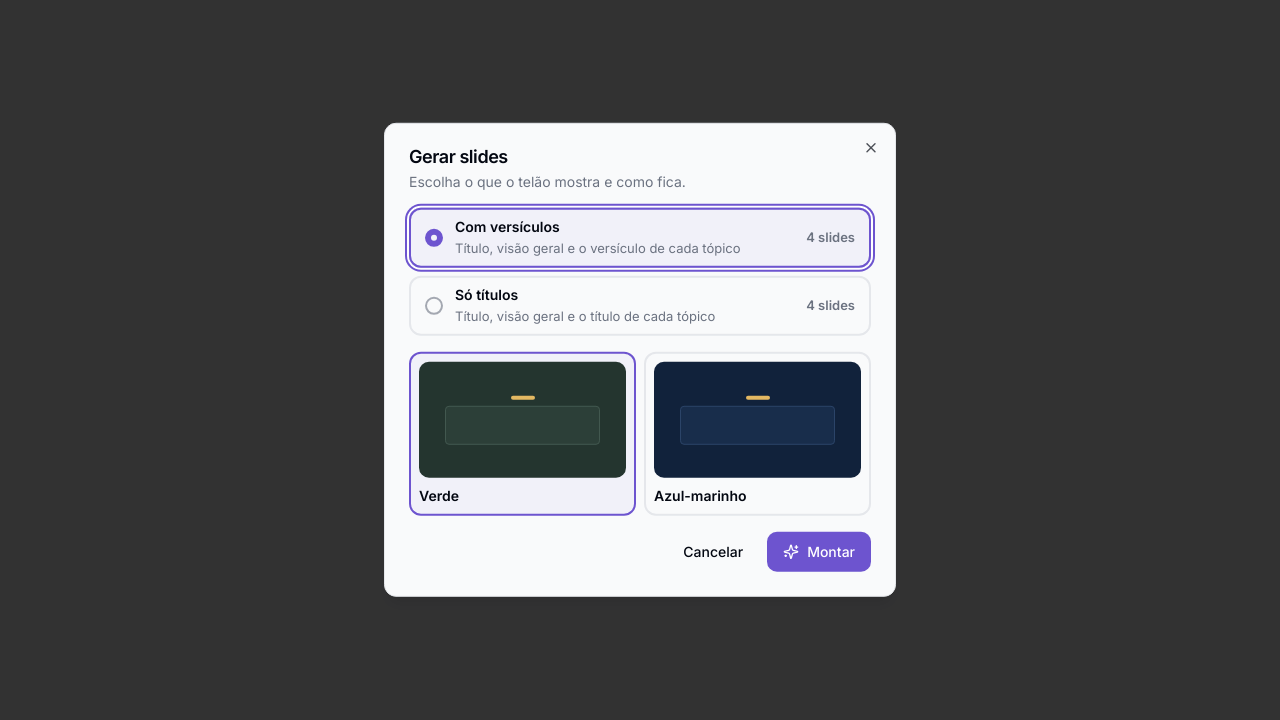
GenerateSlidesDialog › enquanto monta, o diálogo não fecha e Cancelar fica desligado
The width and height of the screenshot is (1280, 720).
Later steps or results of the test are not shown.
Click the button "Montar": {"x": 819, "y": 552} left=767, top=532, right=871, bottom=572
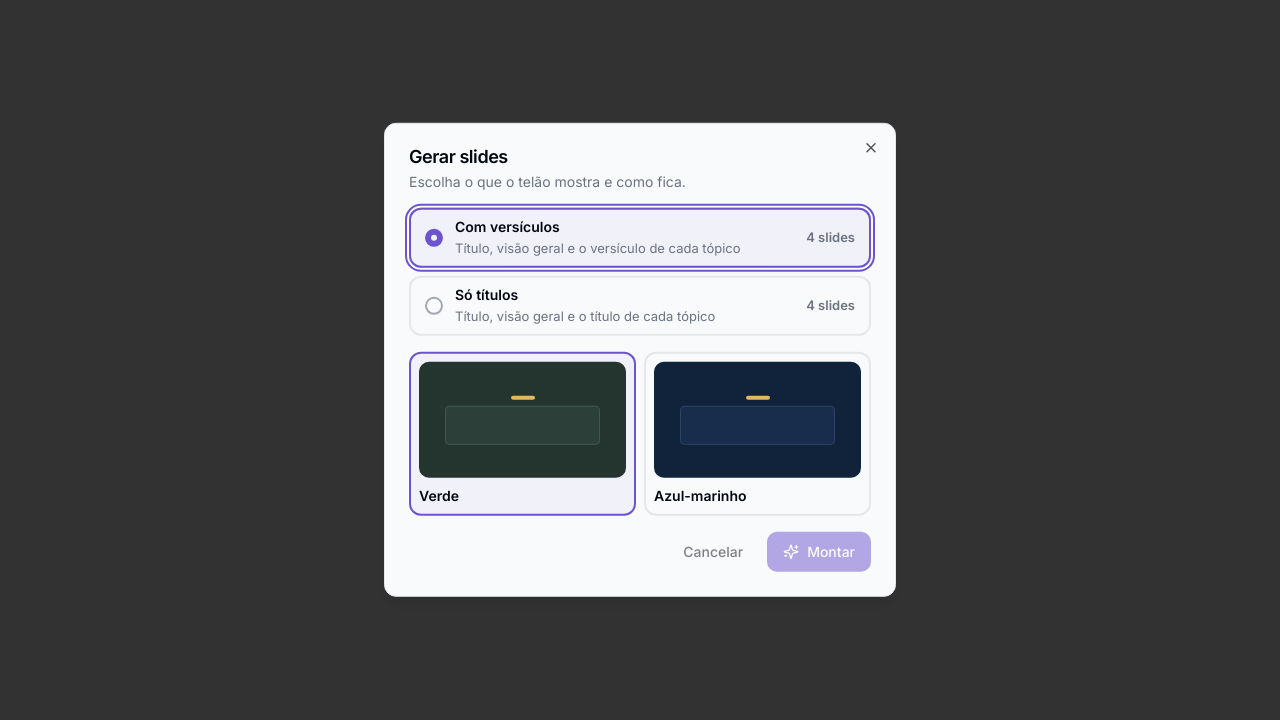
Expected: the button "Cancelar" is disabled, left=667, top=532, right=759, bottom=572
